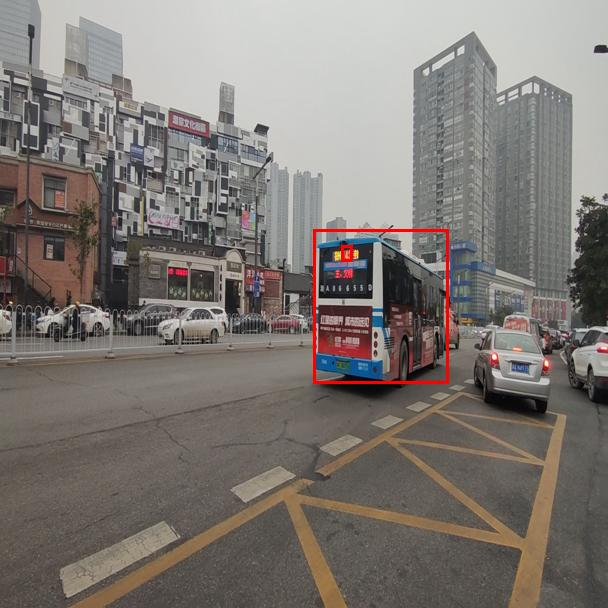bus: (313, 229, 448, 383)
screen: (341, 245, 352, 261)
